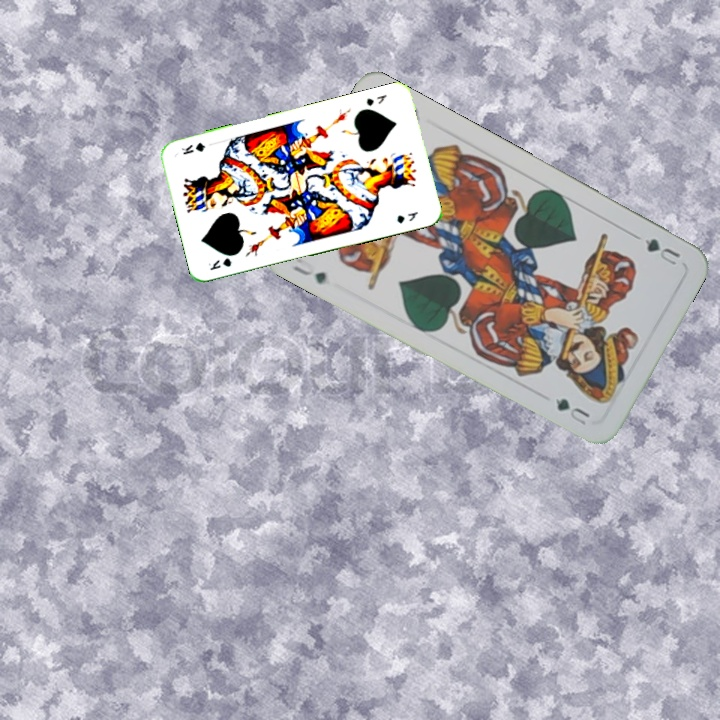GK: (206, 254, 234, 273), (362, 90, 389, 109)
GU: (640, 234, 683, 268), (287, 254, 329, 287)
